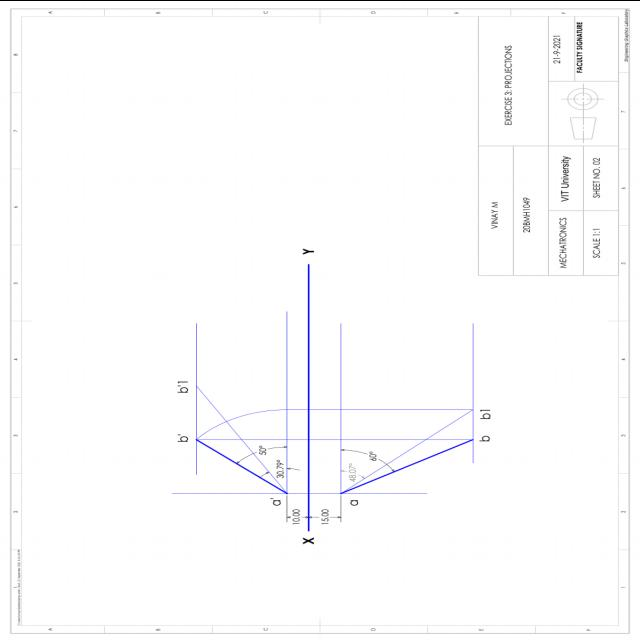Drawings: (143, 238, 498, 560)
